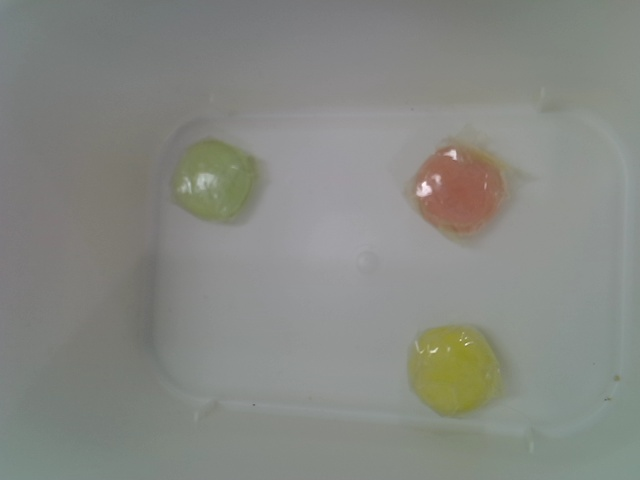씨앗: (406, 323, 501, 416), (411, 148, 509, 235), (171, 138, 254, 220)
